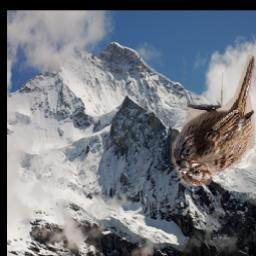Sparrow: (173, 54, 256, 186)
